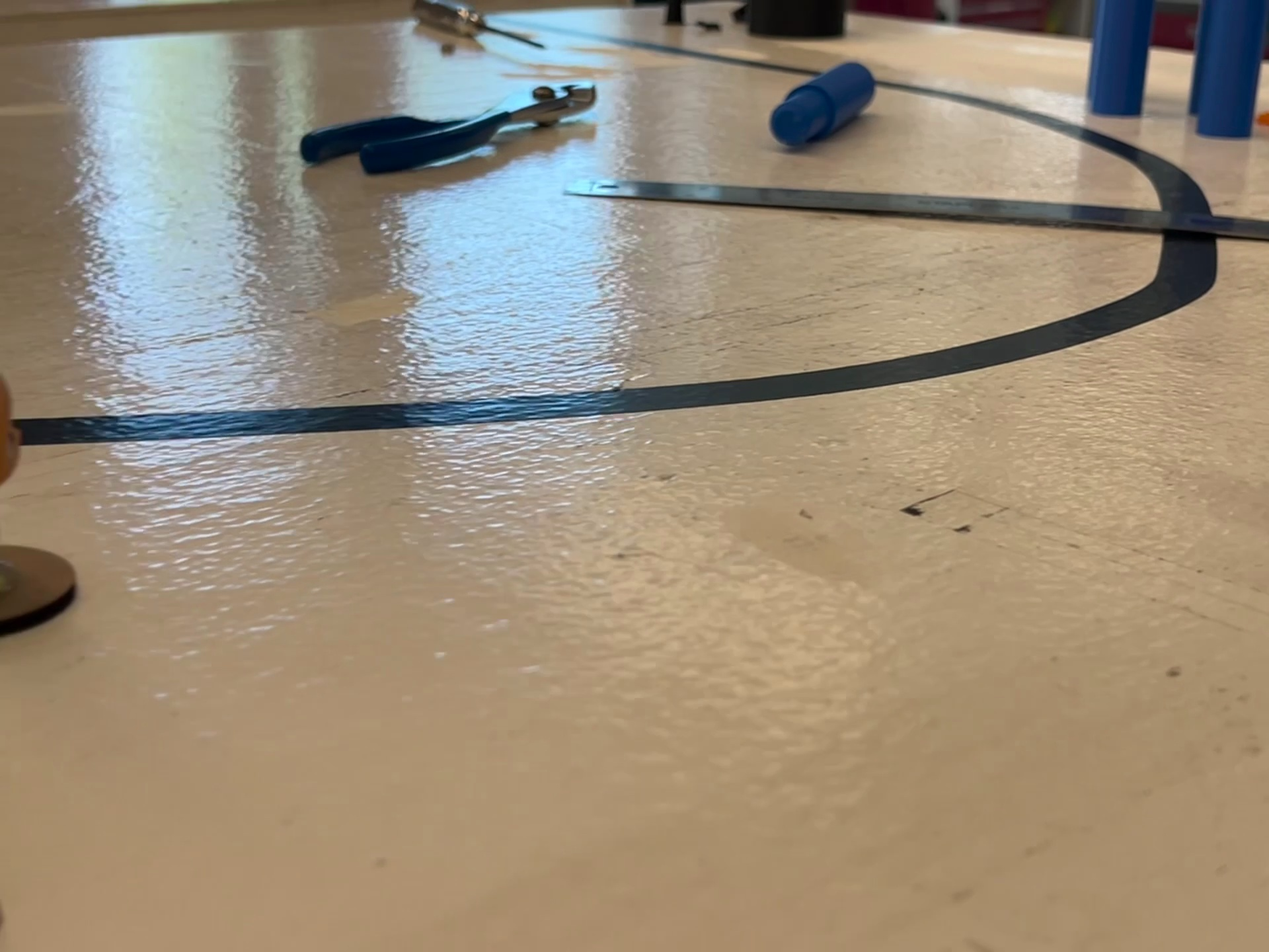teletubby: (0, 376, 20, 485)
